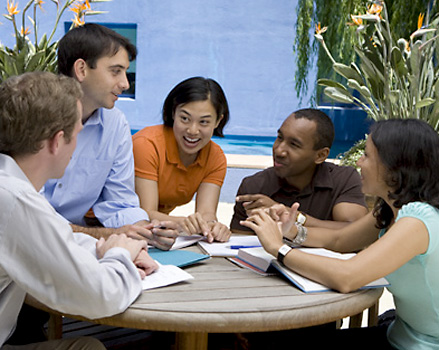Person: (1, 81, 86, 336), (342, 120, 433, 325), (139, 76, 234, 231)
